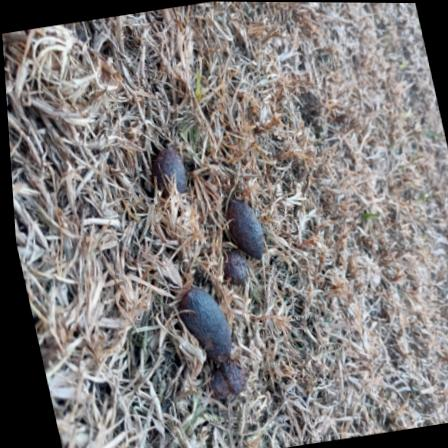dog-poop: (177, 282, 239, 404), (207, 195, 274, 279), (146, 144, 193, 194)
